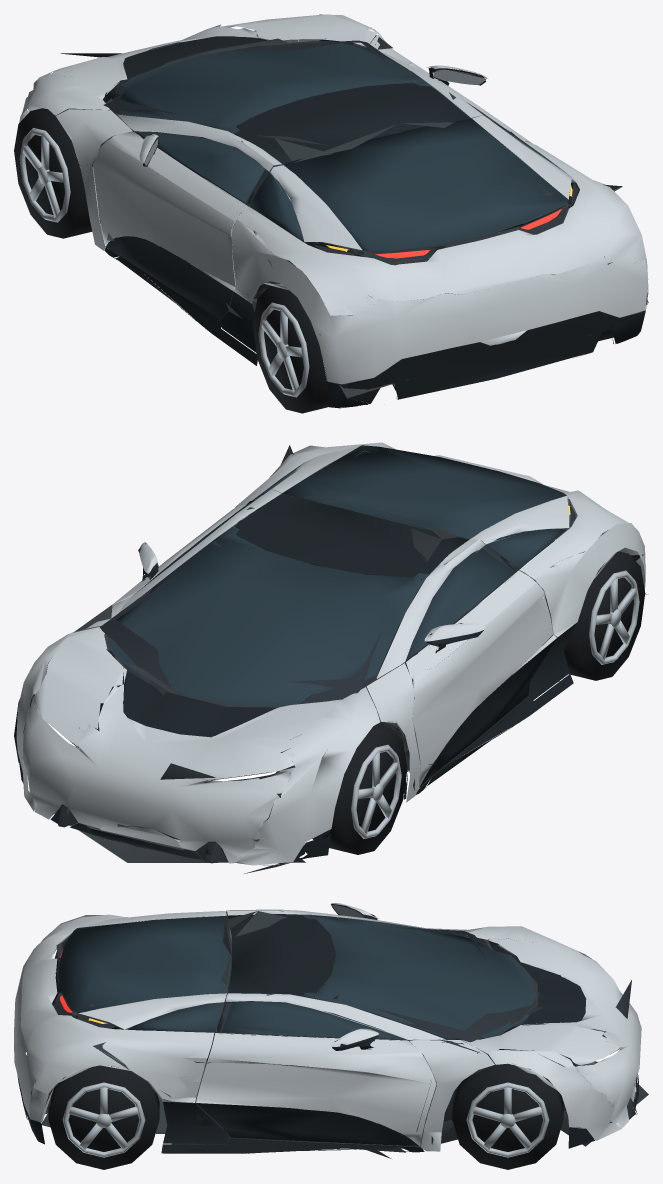
The model's file is concept-race.glb.
3 views of the same model, one above another, from view 1: azimuth 30°, elevation 25°; view 2: azimuth 150°, elevation 25°; view 3: azimuth 270°, elevation 25° (orthographic). The views are drawn at different scales.
Visible parts, largest first — view 1: Paint, Glass.001, Carbon, Rubber, Metal, Interior, Trim; view 2: Paint, Glass.001, Carbon, Rubber, Trim, Interior, Metal; view 3: Paint, Glass.001, Carbon, Rubber, Metal, Interior, Trim.
Boxes of the visible parts, bbox=[...] form: Paint: bbox=[19, 14, 648, 384]; Glass.001: bbox=[119, 41, 568, 251]; Carbon: bbox=[104, 36, 645, 408]; Rubber: bbox=[14, 35, 643, 413]; Metal: bbox=[19, 69, 486, 397]; Interior: bbox=[86, 37, 648, 398]; Trim: bbox=[60, 37, 641, 399]; Paint: bbox=[16, 442, 645, 865]; Glass.001: bbox=[107, 445, 566, 706]; Carbon: bbox=[18, 494, 576, 859]; Rubber: bbox=[14, 551, 645, 854]; Trim: bbox=[50, 500, 576, 873]; Interior: bbox=[54, 445, 648, 862]; Metal: bbox=[351, 570, 639, 838]; Paint: bbox=[14, 903, 641, 1151]; Glass.001: bbox=[59, 914, 535, 1040]; Carbon: bbox=[17, 904, 638, 1153]; Rubber: bbox=[48, 938, 563, 1169]; Metal: bbox=[62, 905, 549, 1157]; Interior: bbox=[26, 911, 648, 1158]; Trim: bbox=[41, 912, 637, 1144].
Bounding box in the file's own units: 2 × 1.04 × 3.78.
